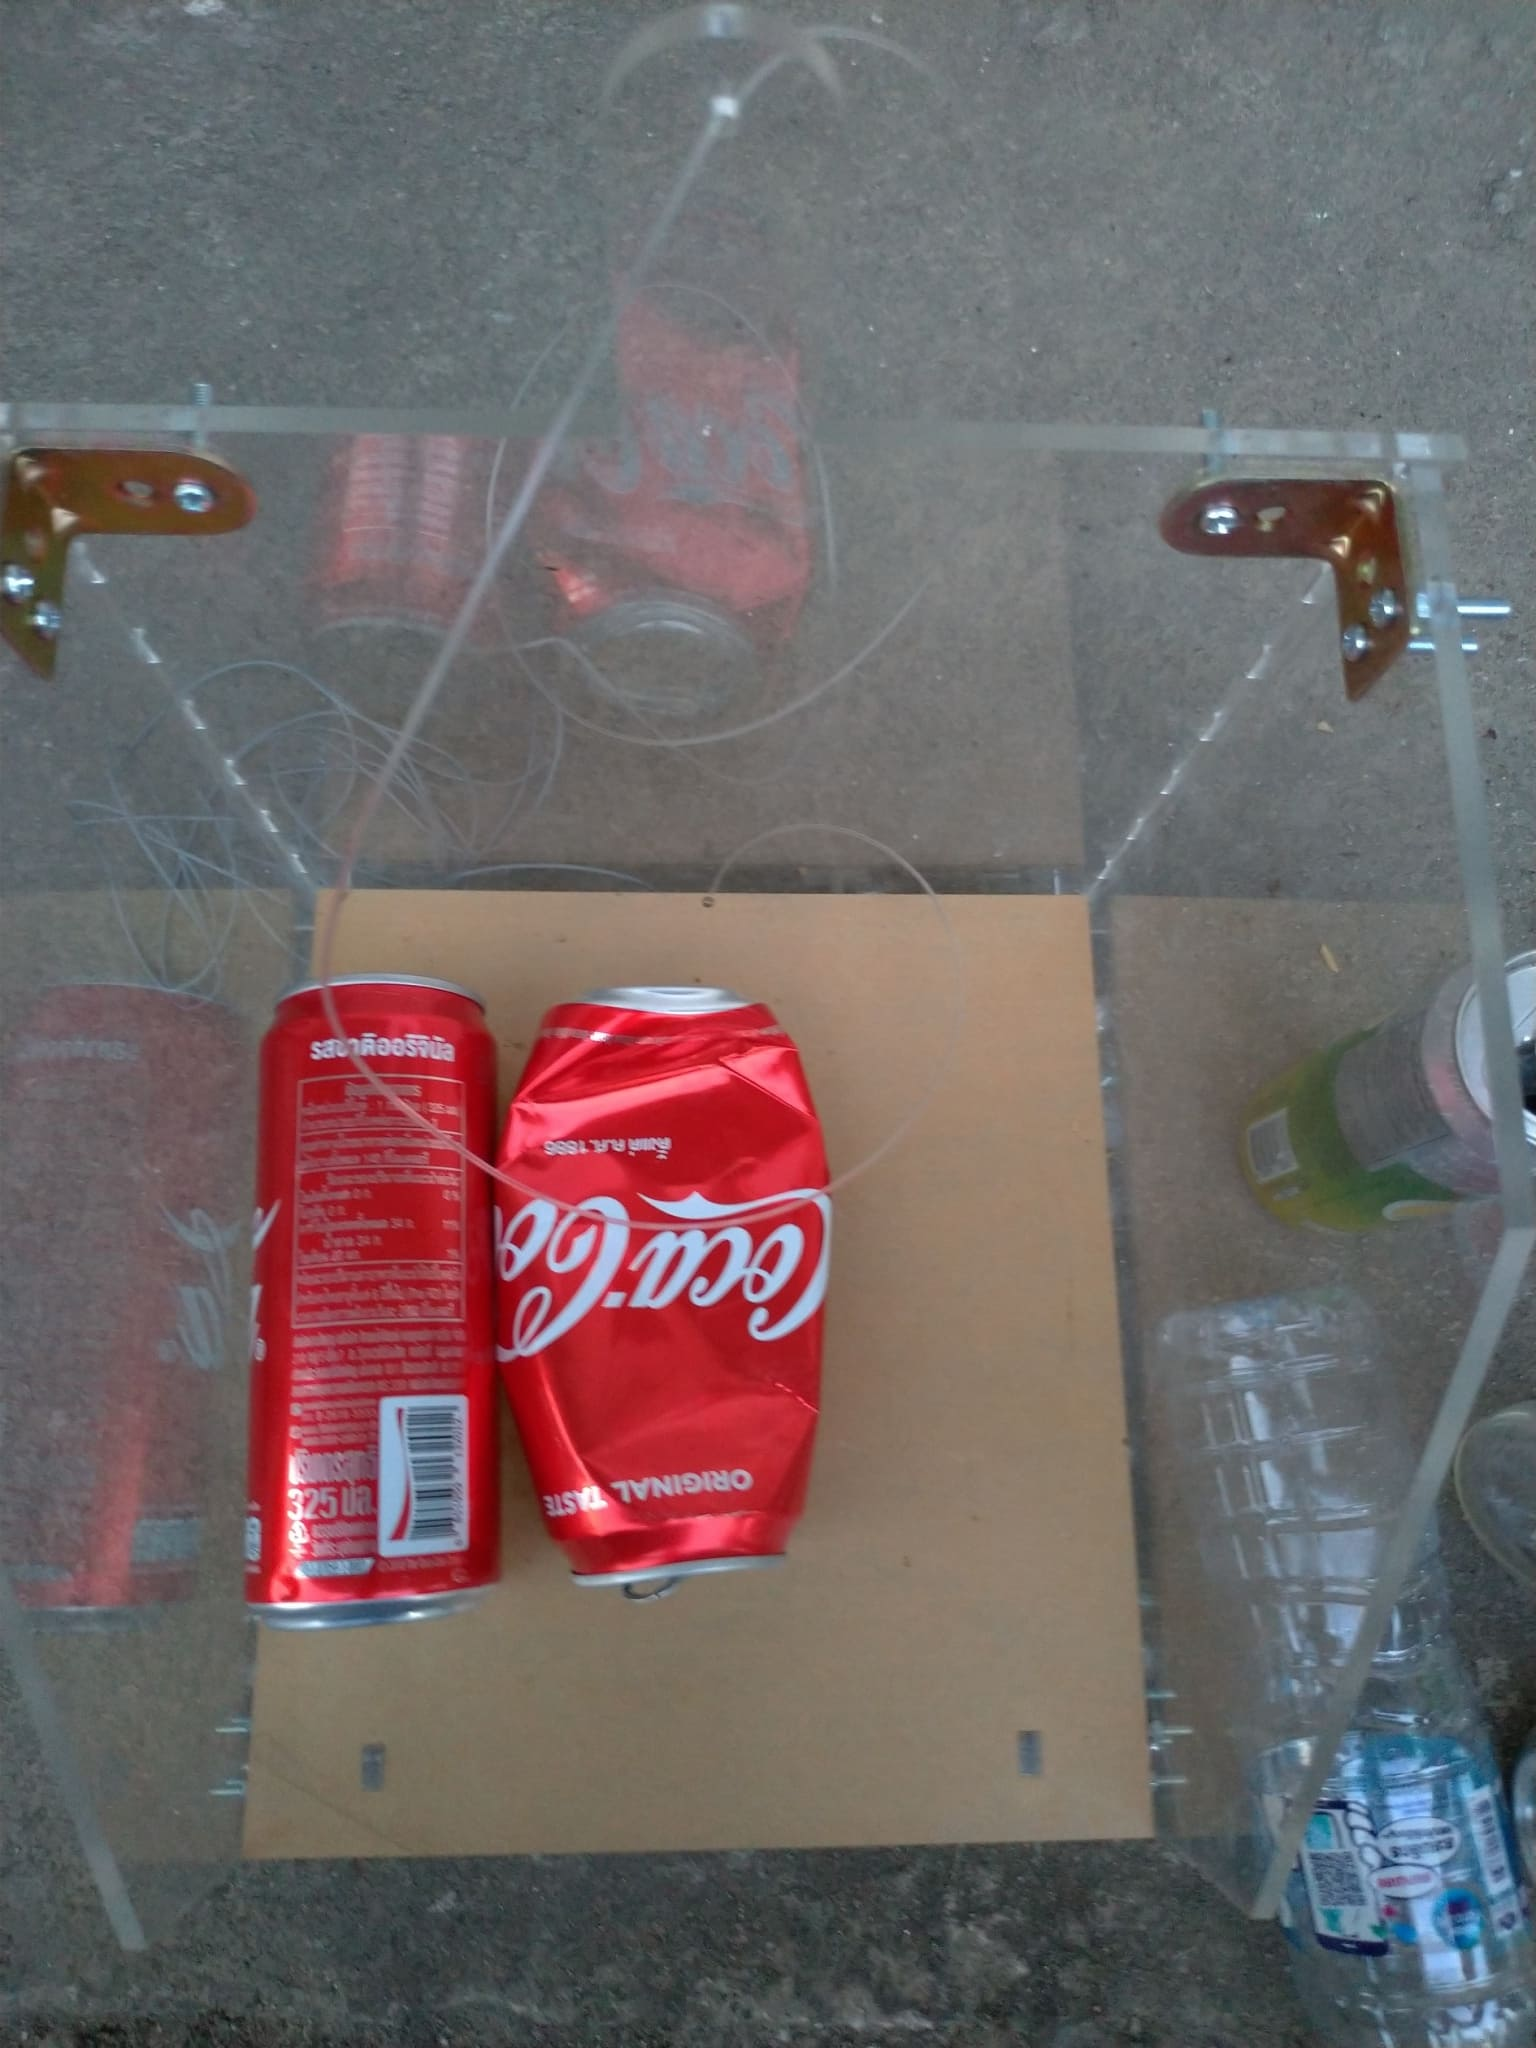AlCan: (490, 987, 833, 1593), (245, 980, 502, 1616), (1238, 955, 1536, 1243)
PlasticBottle: (1146, 1293, 1526, 2048)
